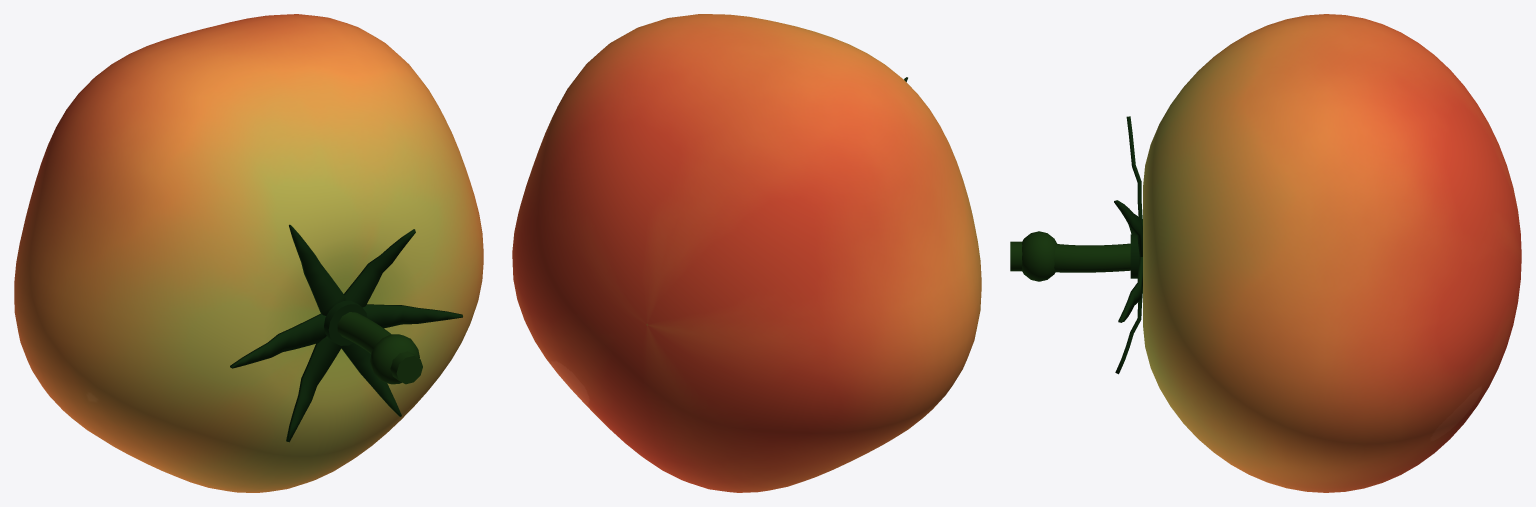
Rendered from tomato_half.obj.
The picture shows the model from 3 angles, left to right: view 1: azimuth 30°, elevation 25°; view 2: azimuth 150°, elevation 25°; view 3: azimuth 270°, elevation 25°; orthographic projection. The views are drawn at different scales.
Parts seen in each view (by area): view 1: tomato_half, calyx, knuckle, pedicel, calyx_hub, proximal_stub; view 2: tomato_half; view 3: tomato_half, pedicel, calyx, knuckle.
Boxes of the visible parts, x1,y1,x2,y2 form: tomato_half: [14, 14, 483, 492]; calyx: [230, 224, 462, 442]; knuckle: [370, 334, 419, 384]; pedicel: [337, 312, 390, 353]; calyx_hub: [324, 300, 367, 345]; proximal_stub: [390, 351, 422, 384]; tomato_half: [512, 14, 981, 492]; tomato_half: [1143, 14, 1521, 492]; pedicel: [1054, 243, 1130, 272]; calyx: [1114, 116, 1142, 374]; knuckle: [1022, 231, 1057, 281].
Bounding box in the file's own units: 0.0606 × 0.06 × 0.0646.
3 materials, 1 textured.
